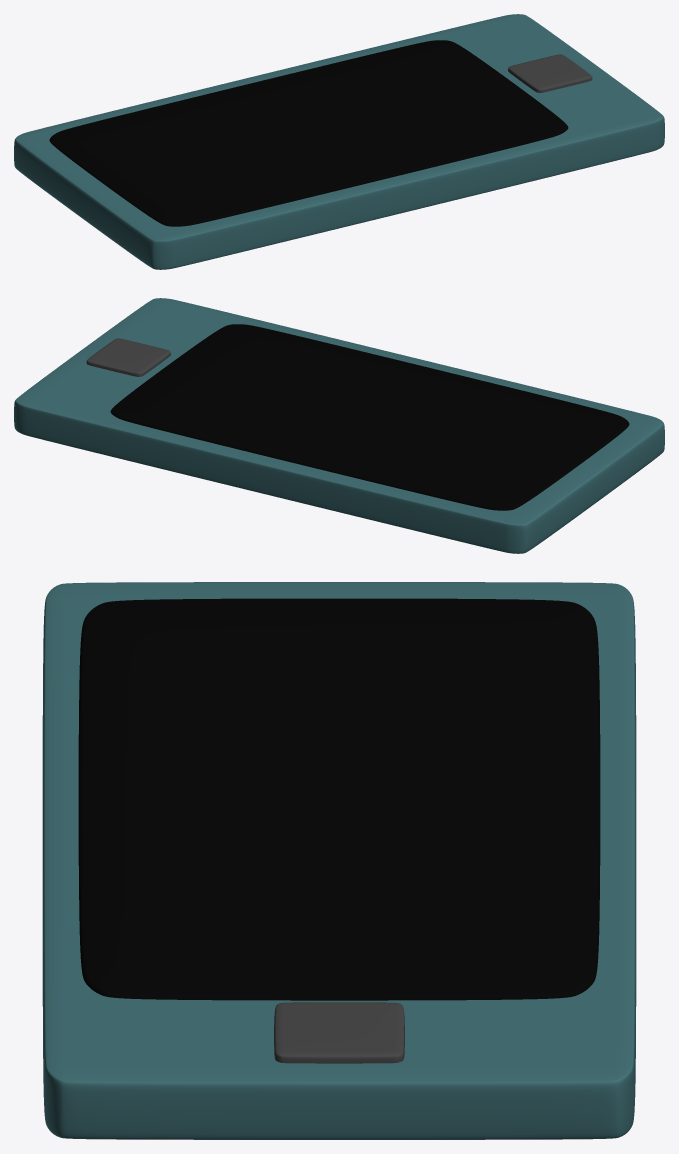
File: Telefono.fbx
3 views of the same model, one above another, from view 1: azimuth 30°, elevation 25°; view 2: azimuth 150°, elevation 25°; view 3: azimuth 270°, elevation 25° (orthographic). The views are drawn at different scales.
Visible parts, largest first — view 1: Cube.002, Cube, Cube.001; view 2: Cube.002, Cube, Cube.001; view 3: Cube.002, Cube, Cube.001.
Part boxes in pixels (x1,y1,x2,y2): Cube.002: (49,40,568,226); Cube: (14,14,664,269); Cube.001: (508,54,592,92); Cube.002: (110,324,629,510); Cube: (14,298,664,553); Cube.001: (86,338,170,376); Cube.002: (78,598,600,1000); Cube: (42,582,636,1139); Cube.001: (274,1002,404,1063).
Size of the model in its own units: 255 by 16.51 by 127.
